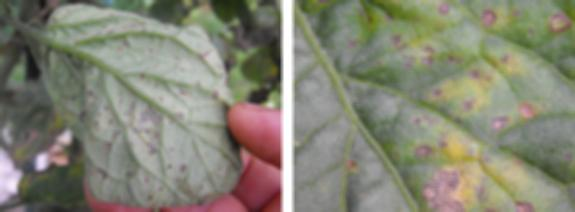Tomato Septoria leaf spot: (305, 7, 573, 202), (31, 7, 257, 207)
